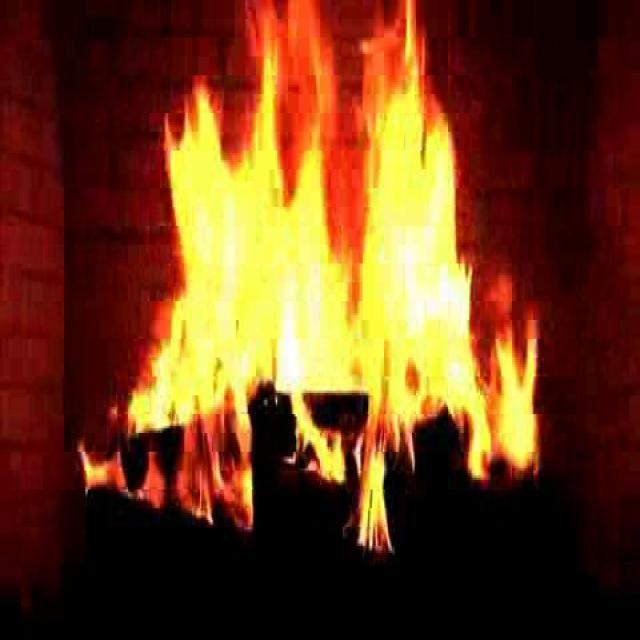Fire: (134, 38, 514, 530)
